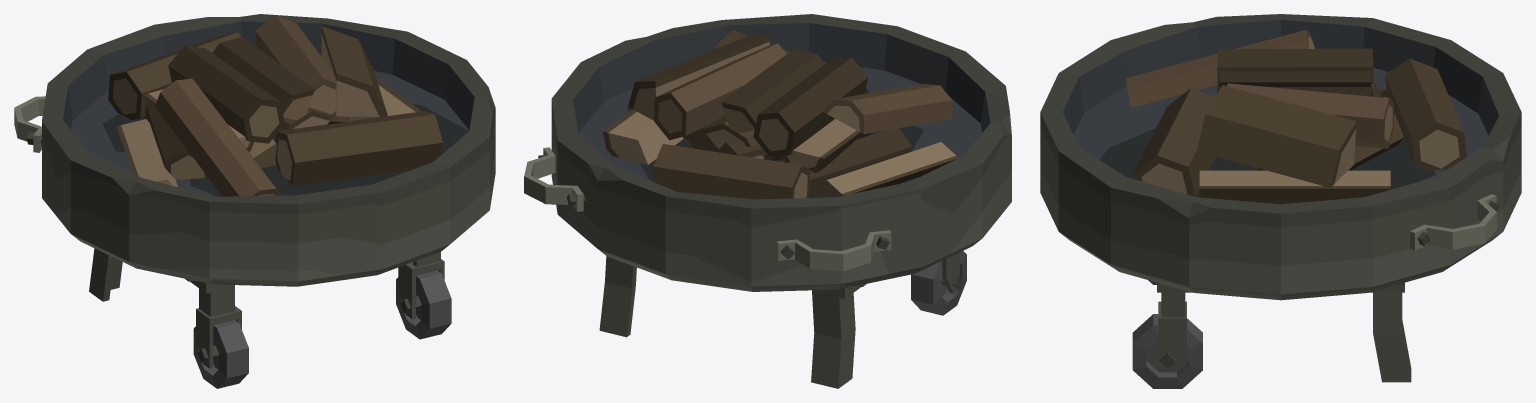
Rendered from SM_Prop_FirePit_01.glb.
3 renders of one model, left to right at view 1: azimuth 30°, elevation 25°; view 2: azimuth 150°, elevation 25°; view 3: azimuth 270°, elevation 25°, orthographic. The views are drawn at different scales.
Visible parts, largest first — view 1: SM_Prop_FirePit_01; view 2: SM_Prop_FirePit_01; view 3: SM_Prop_FirePit_01.
Part boxes in pixels (<box>): SM_Prop_FirePit_01: <box>14,14,495,388</box>; SM_Prop_FirePit_01: <box>524,14,1011,388</box>; SM_Prop_FirePit_01: <box>1040,14,1521,388</box>.
Size of the model in its own units: 1.66 by 1.02 by 1.66.
1 material, 1 textured.
